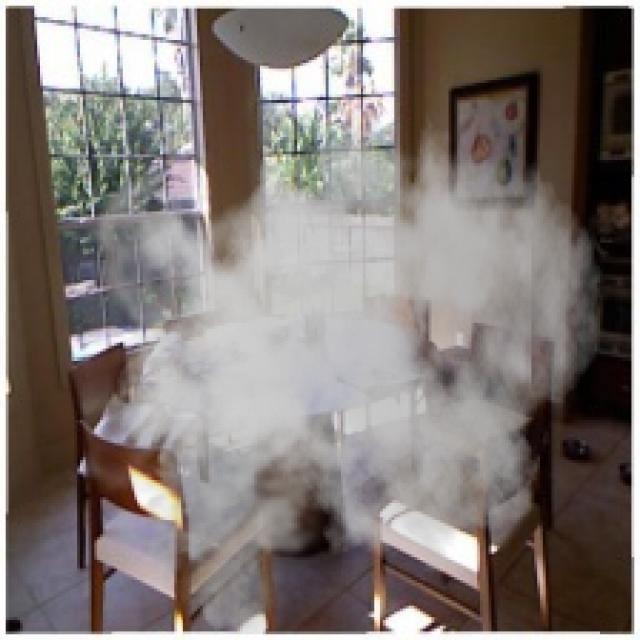Smoke: (83, 71, 603, 634)
